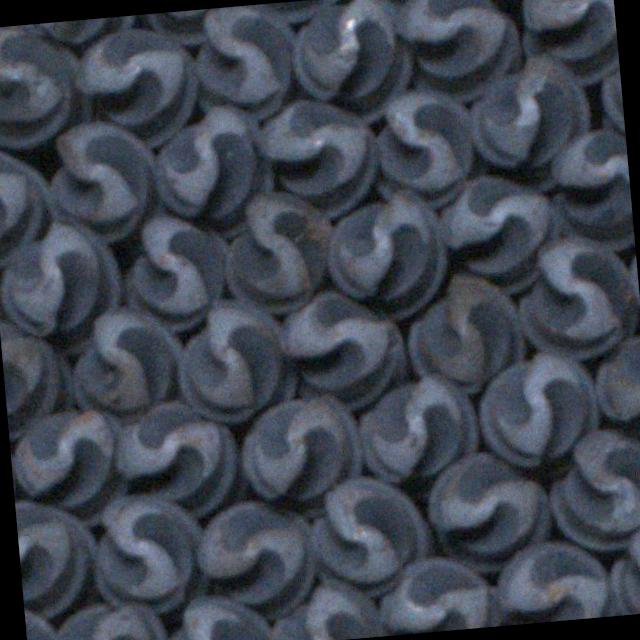tool_b: (464, 51, 596, 198), (146, 100, 275, 242), (506, 233, 640, 366), (323, 188, 452, 326), (0, 221, 126, 360), (276, 285, 411, 414), (423, 448, 557, 576), (109, 396, 242, 524), (172, 294, 300, 426), (236, 390, 365, 520), (73, 24, 204, 152), (304, 474, 433, 602), (432, 168, 560, 296), (474, 347, 602, 474), (402, 270, 528, 399), (194, 498, 322, 624), (257, 94, 384, 220), (287, 0, 416, 124), (215, 186, 338, 316), (87, 492, 208, 620), (42, 118, 163, 245), (8, 406, 130, 530), (64, 304, 188, 426), (355, 372, 483, 488), (117, 208, 235, 332), (390, 0, 523, 107), (365, 84, 477, 211), (188, 3, 302, 125), (543, 424, 640, 552), (0, 21, 94, 152), (546, 128, 635, 255), (490, 538, 614, 626), (372, 554, 501, 636), (15, 498, 99, 622), (0, 314, 74, 438), (515, 0, 618, 85), (261, 575, 389, 640), (0, 144, 54, 269), (591, 335, 640, 454), (163, 591, 274, 640), (131, 5, 252, 48), (47, 600, 167, 640), (0, 15, 136, 48), (230, 0, 363, 26), (595, 42, 626, 152), (604, 523, 640, 615), (24, 601, 62, 640)
